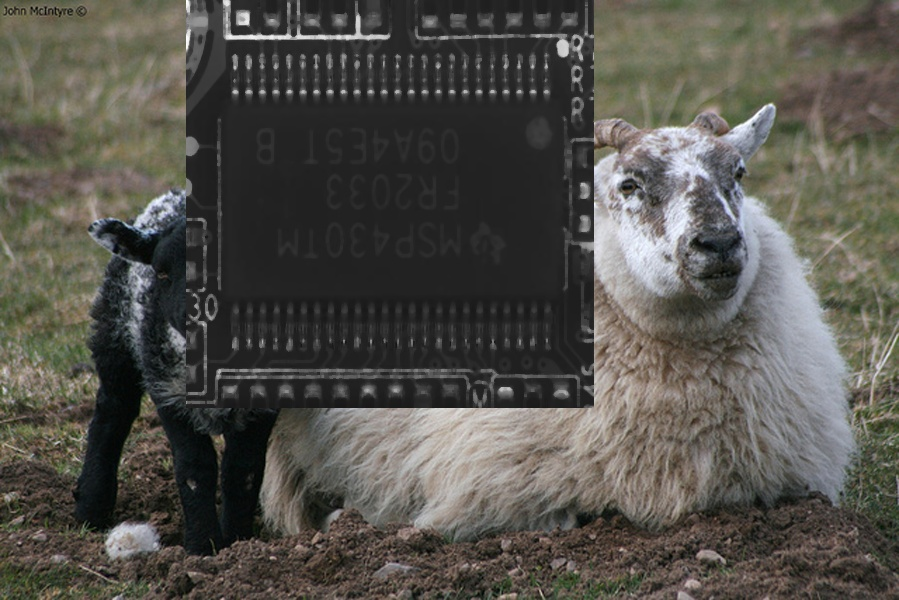PIN: (220, 290, 562, 358), (221, 43, 559, 104)
sheep: (262, 98, 854, 519), (74, 189, 309, 550)
